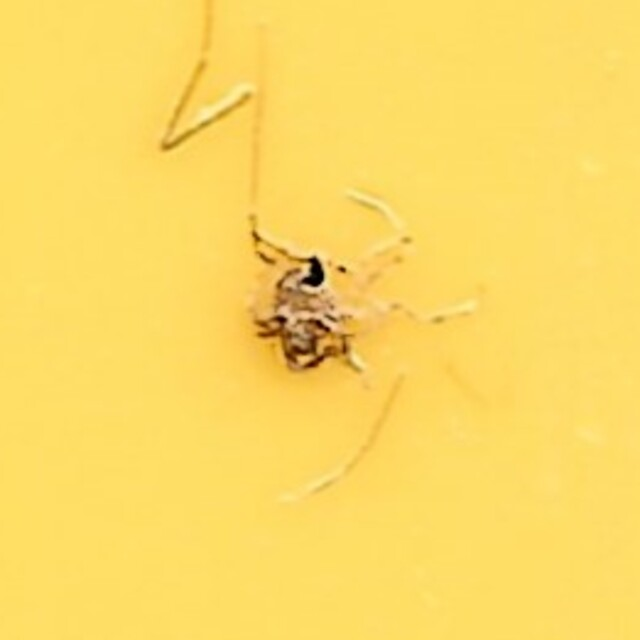Nematocera: (245, 237, 395, 403)
